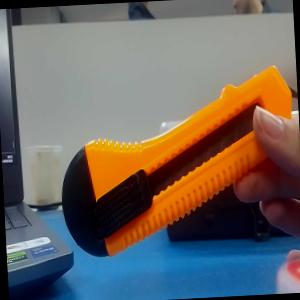estilete: (54, 64, 299, 260)
